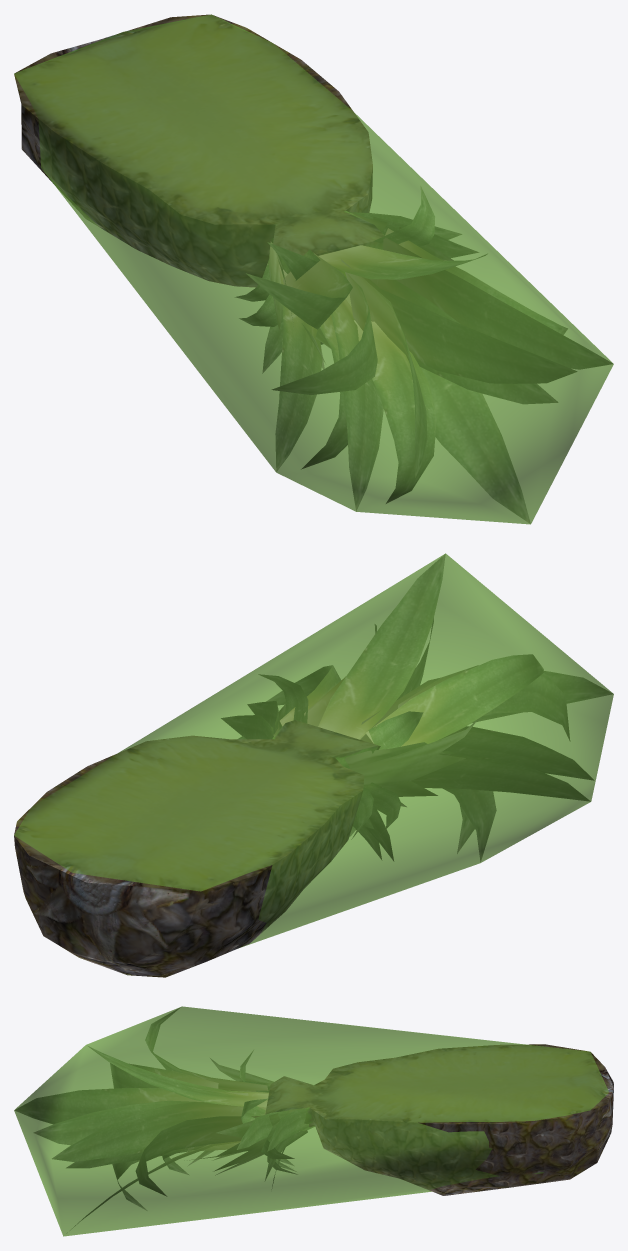
Rendered from pg_Pineapple_02_a.fbx.
3 renders of one model, top to bottom at view 1: azimuth 30°, elevation 25°; view 2: azimuth 150°, elevation 25°; view 3: azimuth 270°, elevation 25°, orthographic. The views are drawn at different scales.
Visible parts, largest first — view 1: pg_Pineapple_02_a_col, pg_Pineapple_02_a_LOD0; view 2: pg_Pineapple_02_a_col, pg_Pineapple_02_a_LOD0; view 3: pg_Pineapple_02_a_col, pg_Pineapple_02_a_LOD0.
Part boxes in pixels (bbox=[...]): pg_Pineapple_02_a_col: bbox=[14, 14, 613, 524]; pg_Pineapple_02_a_LOD0: bbox=[14, 14, 612, 523]; pg_Pineapple_02_a_col: bbox=[14, 553, 613, 947]; pg_Pineapple_02_a_LOD0: bbox=[14, 554, 612, 977]; pg_Pineapple_02_a_col: bbox=[14, 1006, 608, 1236]; pg_Pineapple_02_a_LOD0: bbox=[14, 1007, 613, 1228].
Size of what is drawn, in the model's own units: 26.3 by 21.1 by 61.6.
